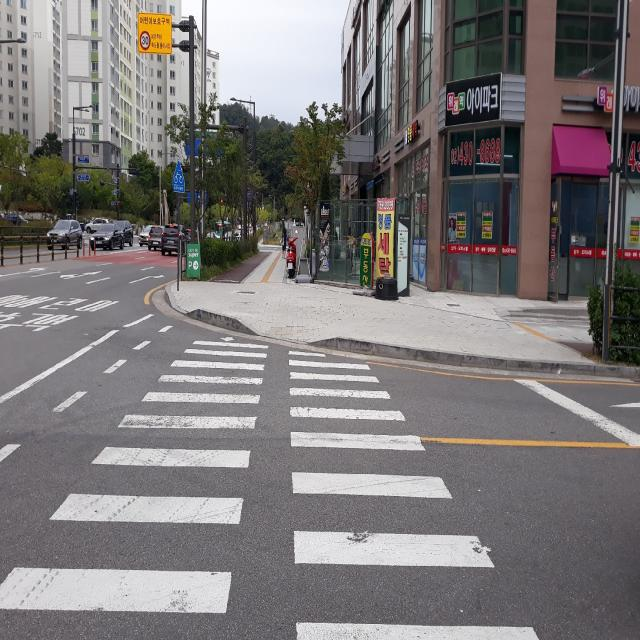횡단보도: (0, 334, 542, 640)
